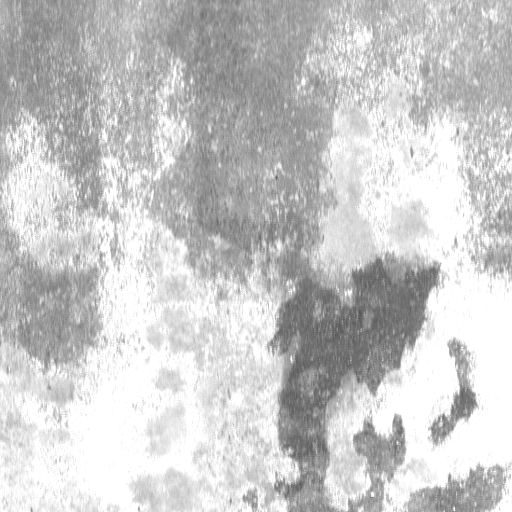aokeng: (271, 254, 443, 512)
